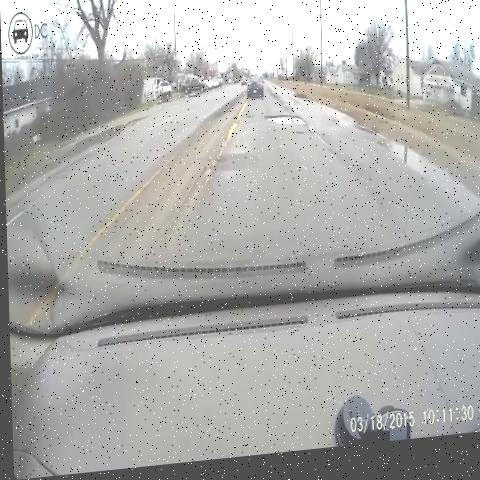pothole: (262, 105, 311, 141), (196, 146, 224, 198), (230, 115, 256, 135)
